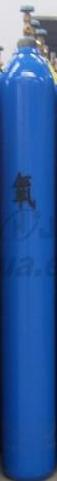cylinder: (0, 1, 57, 481)
